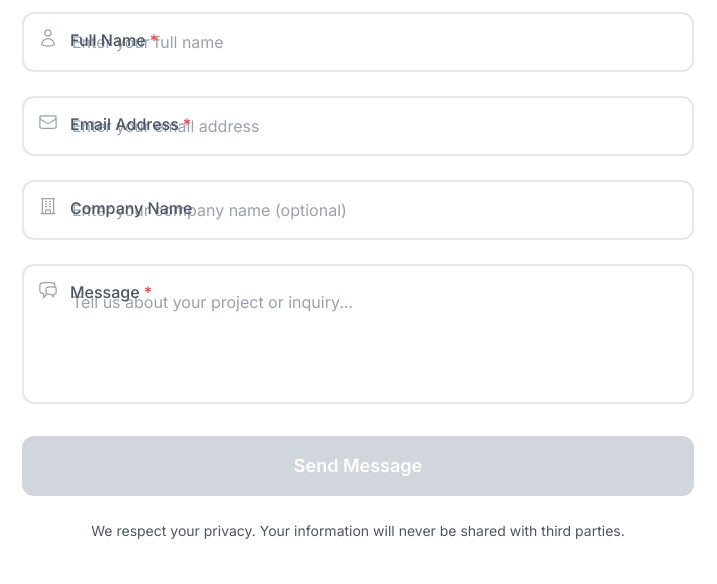
Test: Accessibility - Form Labels and Error Messages › ContactForm Component › should display accessible error messages with proper ARIA attributes
# Focus and blur to trigger validation
Click the field labelled "Full Name*".
click(358, 42)  # box [22, 12, 694, 72]
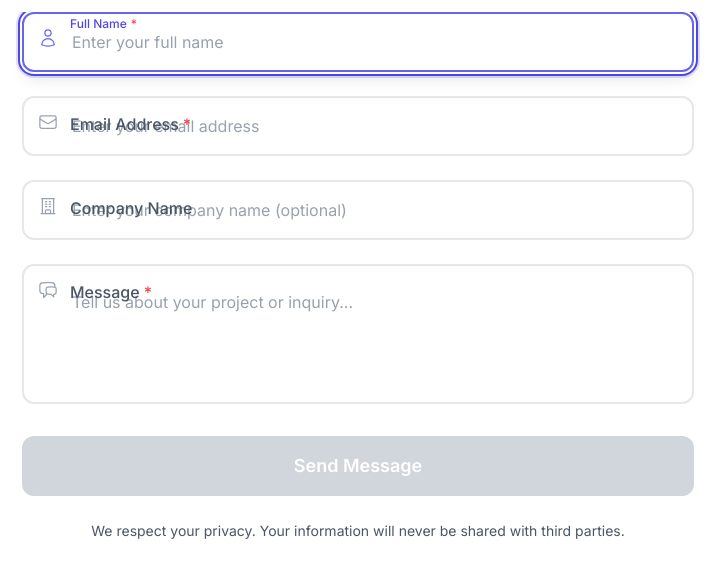
Press Tab
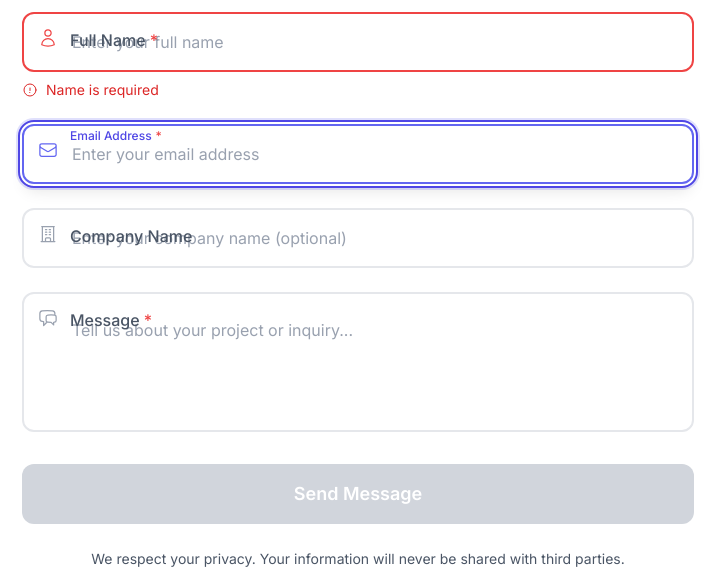
Expected: the message "Name is required" is shown, [22, 81, 159, 98]
Expected: the message reads "Name is required", [46, 81, 159, 98]
